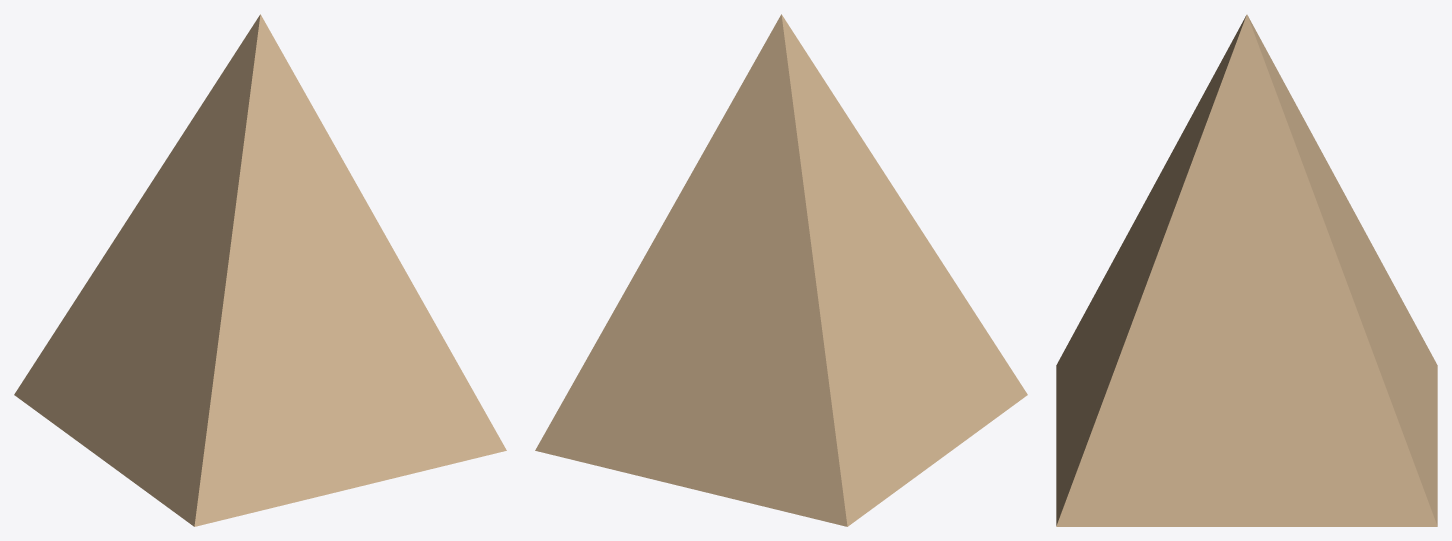
File: pyramid_square.glb
3 renders of one model, left to right at view 1: azimuth 30°, elevation 25°; view 2: azimuth 150°, elevation 25°; view 3: azimuth 270°, elevation 25°, orthographic. The views are drawn at different scales.
Visible parts, largest first — view 1: pyramid_square; view 2: pyramid_square; view 3: pyramid_square.
Boxes of the visible parts, x1=… form: pyramid_square: x1=14, y1=14, x2=506, y2=526; pyramid_square: x1=535, y1=14, x2=1027, y2=526; pyramid_square: x1=1056, y1=14, x2=1437, y2=526.
Size of the model in its own units: 1.6 by 2 by 1.6.
